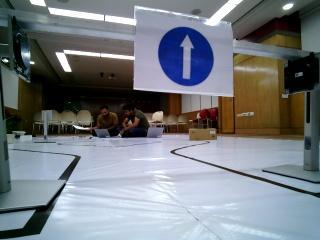straight: (132, 7, 232, 91)
